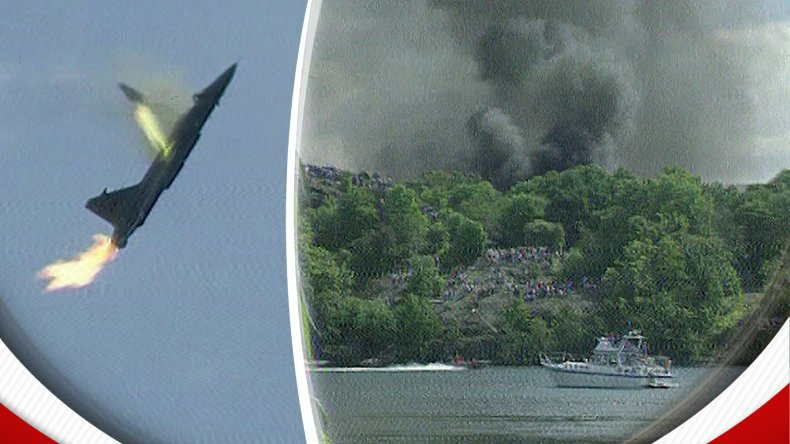JAS39: (84, 54, 243, 249)
